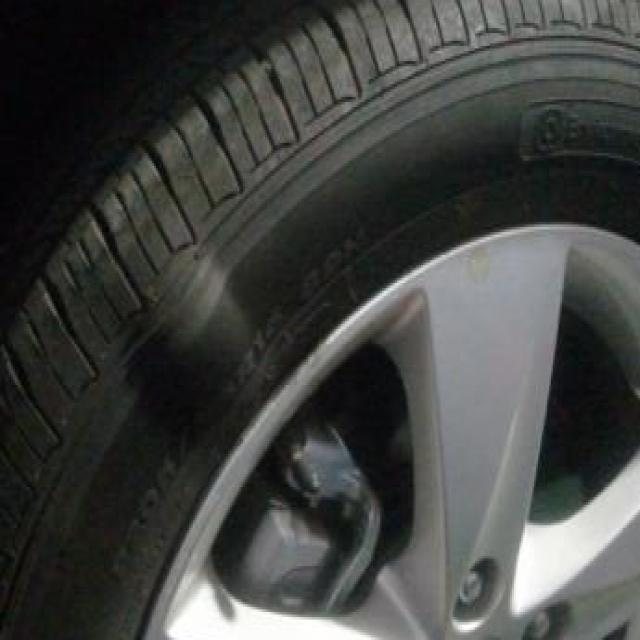Bulge: (132, 244, 276, 420)
